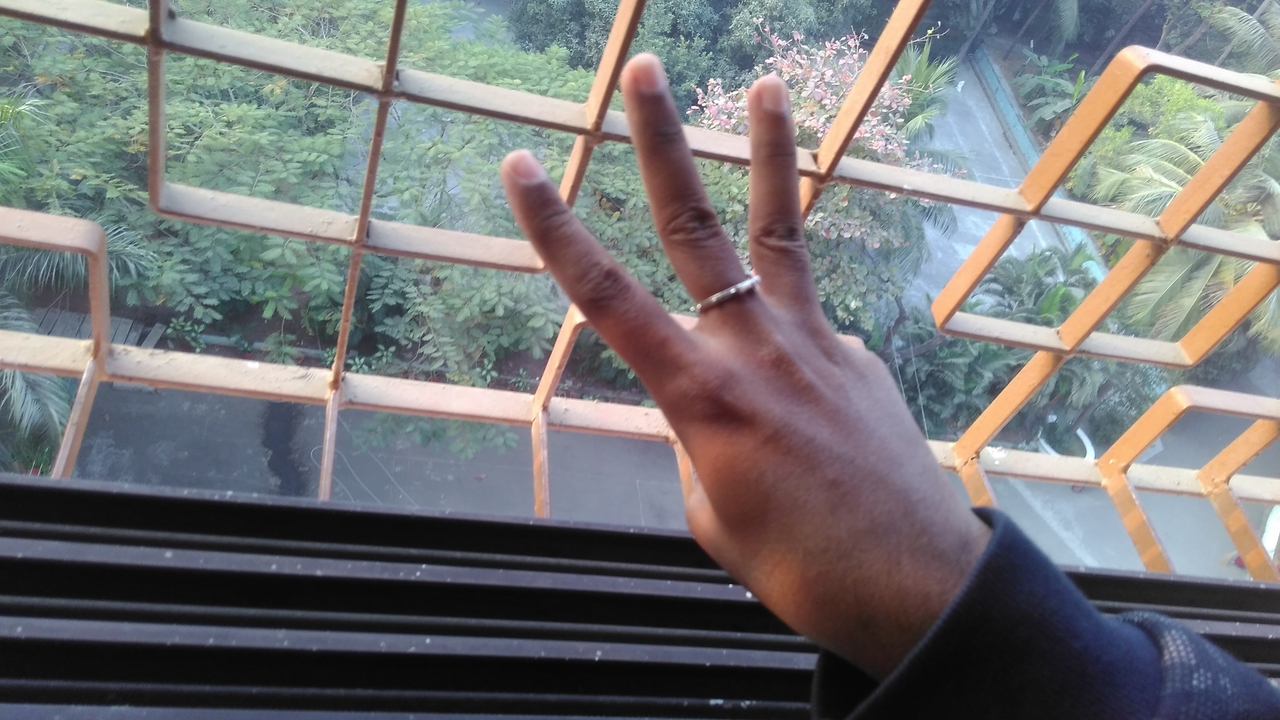fingertip: (492, 142, 550, 200), (620, 50, 670, 110), (746, 74, 796, 124)
